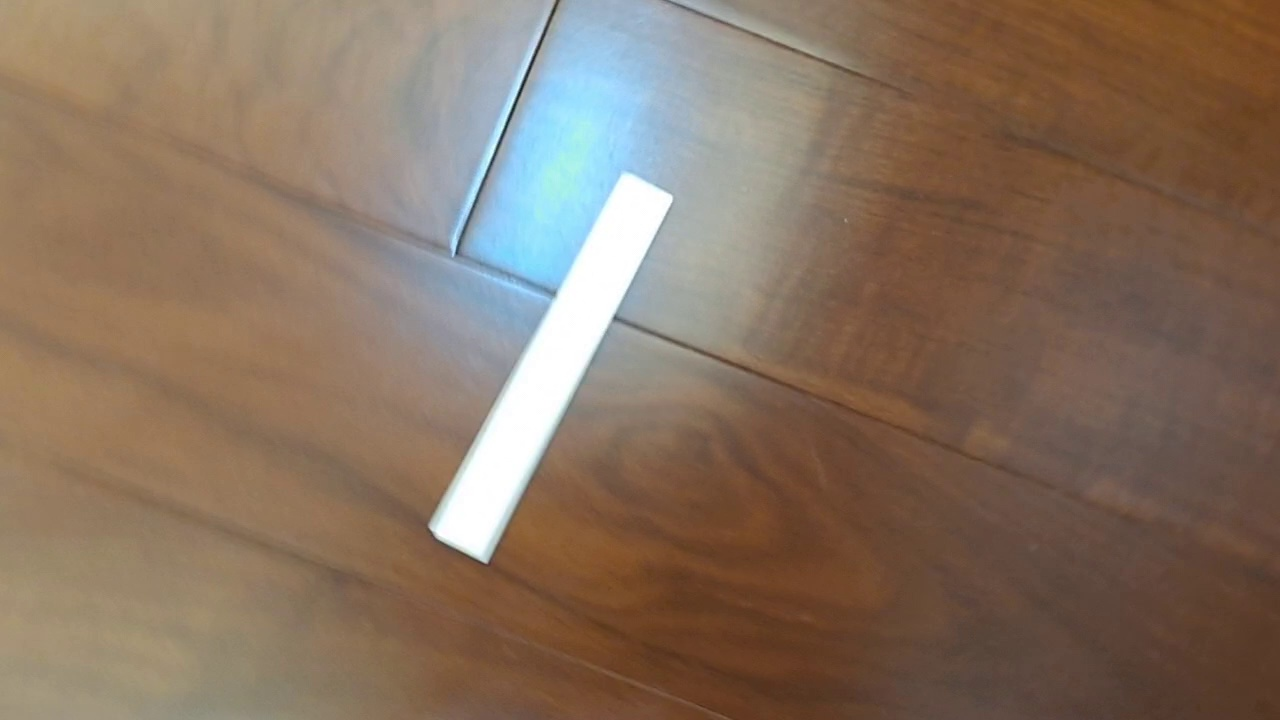ruler: (426, 168, 675, 567)
